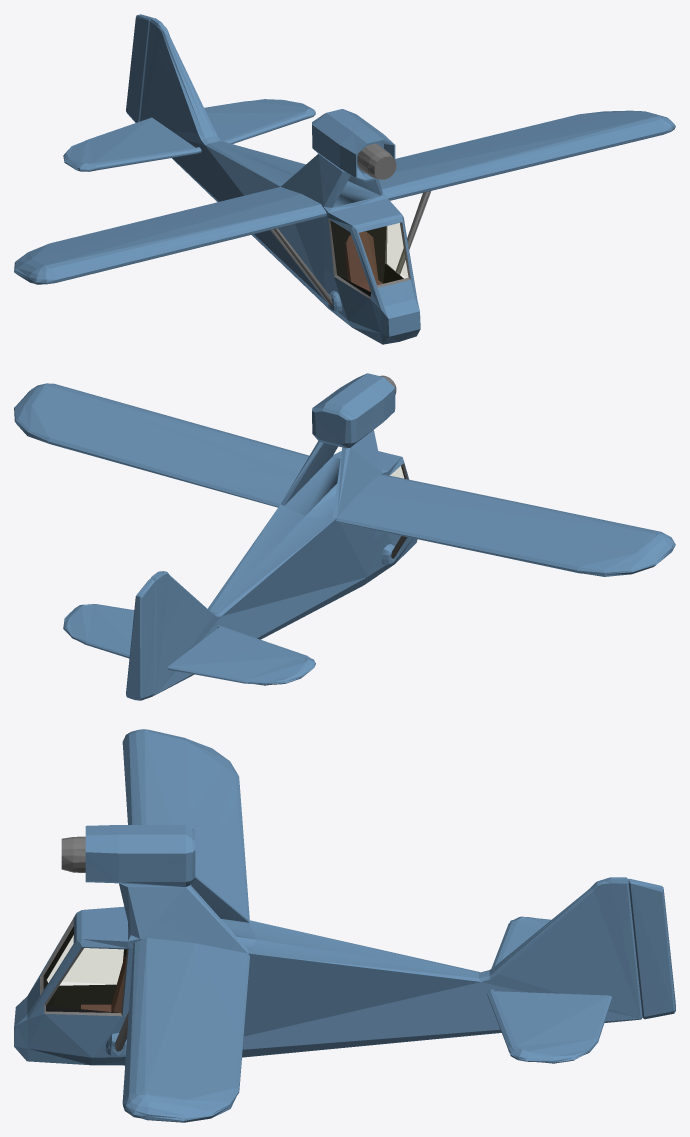
File: aircraft_6.glb
3 views of the same model, one above another, from view 1: azimuth 30°, elevation 25°; view 2: azimuth 150°, elevation 25°; view 3: azimuth 270°, elevation 25° (orthographic). The views are drawn at different scales.
Visible parts, largest first — view 1: tripo_node_05d4ac4d-0260-47d5-af73-b8a39616e9a7, tripo_node_68e8f659.001; view 2: tripo_node_05d4ac4d-0260-47d5-af73-b8a39616e9a7; view 3: tripo_node_05d4ac4d-0260-47d5-af73-b8a39616e9a7, tripo_node_68e8f659.001.
Part boxes in pixels (<box>): tripo_node_05d4ac4d-0260-47d5-af73-b8a39616e9a7: <box>14,14,675,344</box>; tripo_node_68e8f659.001: <box>345,231,382,292</box>; tripo_node_05d4ac4d-0260-47d5-af73-b8a39616e9a7: <box>14,373,675,700</box>; tripo_node_05d4ac4d-0260-47d5-af73-b8a39616e9a7: <box>14,729,675,1122</box>; tripo_node_68e8f659.001: <box>43,956,126,1012</box>.
Size of the model in its own units: 11.95 by 3.38 by 8.76.
